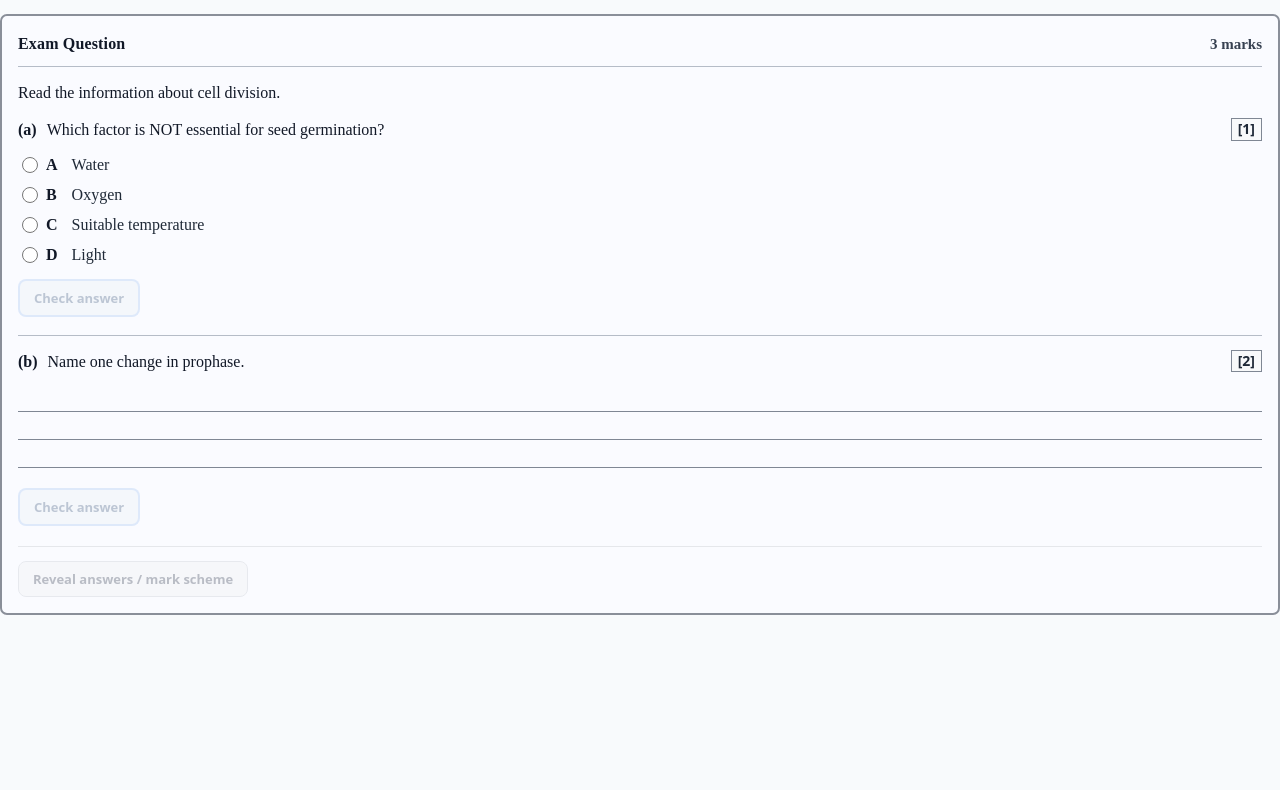
it: ExamQuestionBlock composite question marking › composite MCQ with partData explanation shows full rationale
This screenshot has width=1280, height=790.
Click the radio button labelled "D Light": click(30, 255) [22,247,38,263]
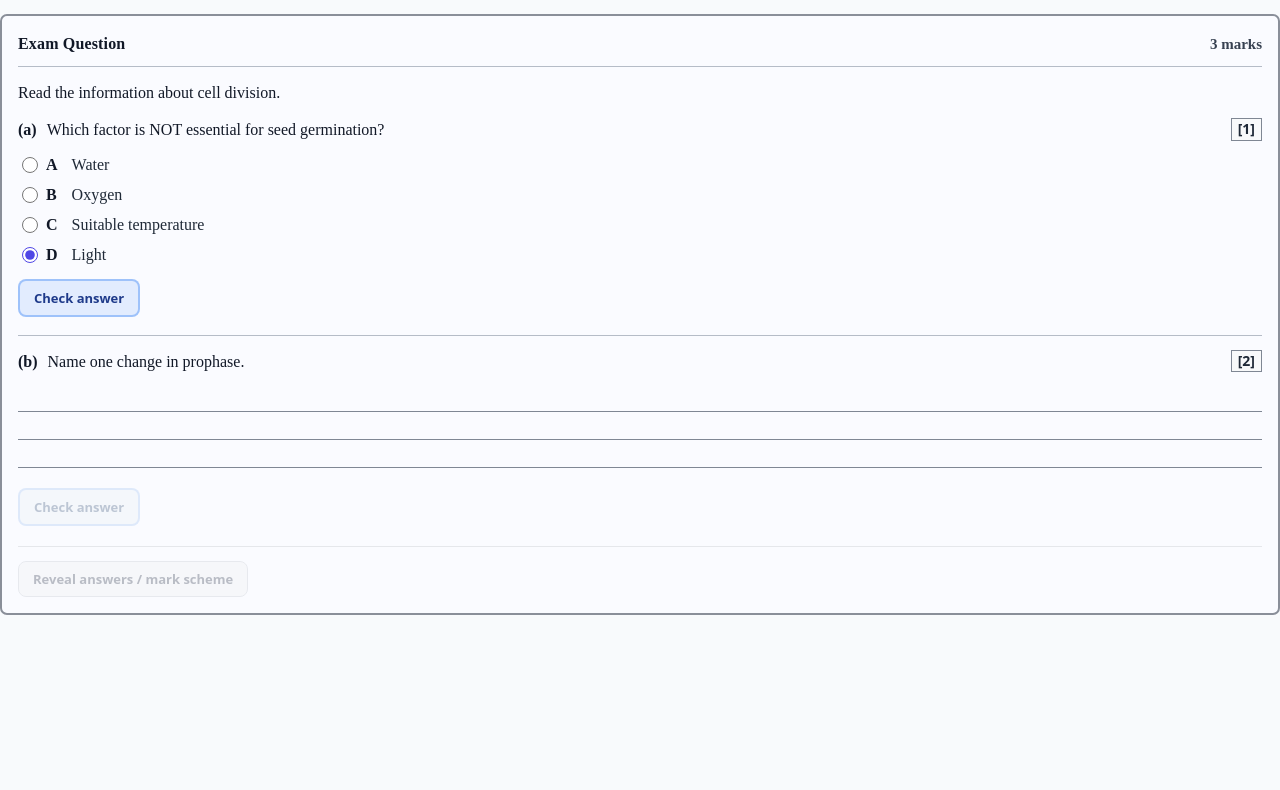
Click the button "Check answer" below "Light": click(79, 298) [18,279,140,317]
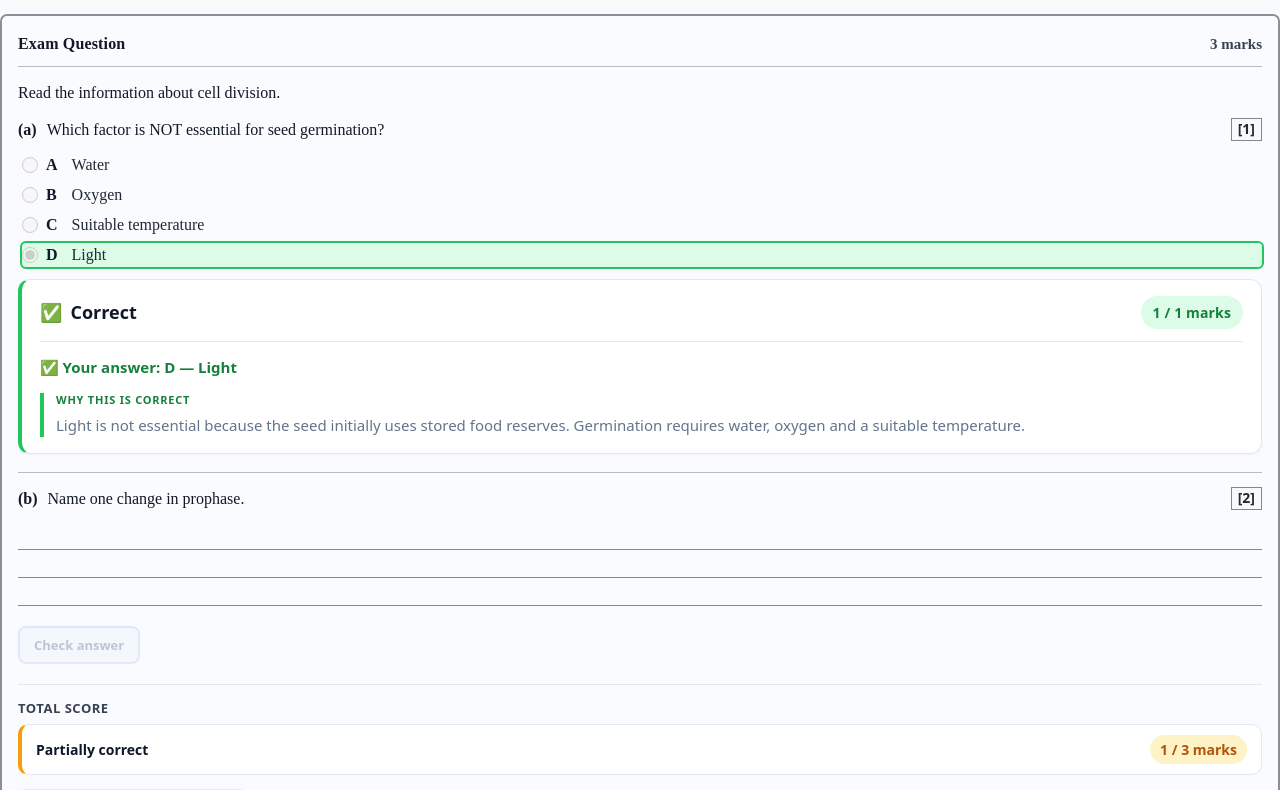
Result: the text with test id "answer-feedback-score-badge" reads "1 / 1 marks" at [1140,296,1243,329]
Result: the element with test id "answer-feedback-why-correct" shows "stored food reserves" at [56,415,1025,435]
